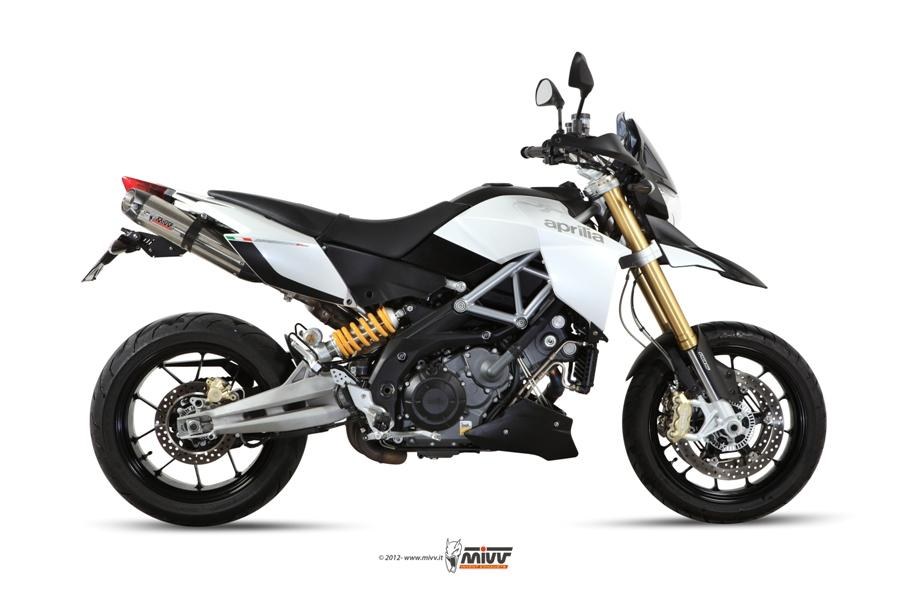engine-chasis: (299, 251, 591, 461)
exhaust: (121, 188, 264, 283), (265, 284, 362, 330), (345, 416, 407, 465), (543, 366, 564, 404)
frontside: (513, 118, 768, 441)
handlebar: (521, 51, 644, 189)
motorbike: (84, 51, 828, 526)
rearside: (122, 176, 502, 332), (176, 323, 391, 439)
seat: (208, 190, 469, 260)
tank: (433, 180, 592, 265)
watermark: (378, 539, 514, 576)
wheel: (89, 312, 309, 527), (622, 321, 828, 524), (630, 272, 678, 390), (619, 268, 647, 349)
